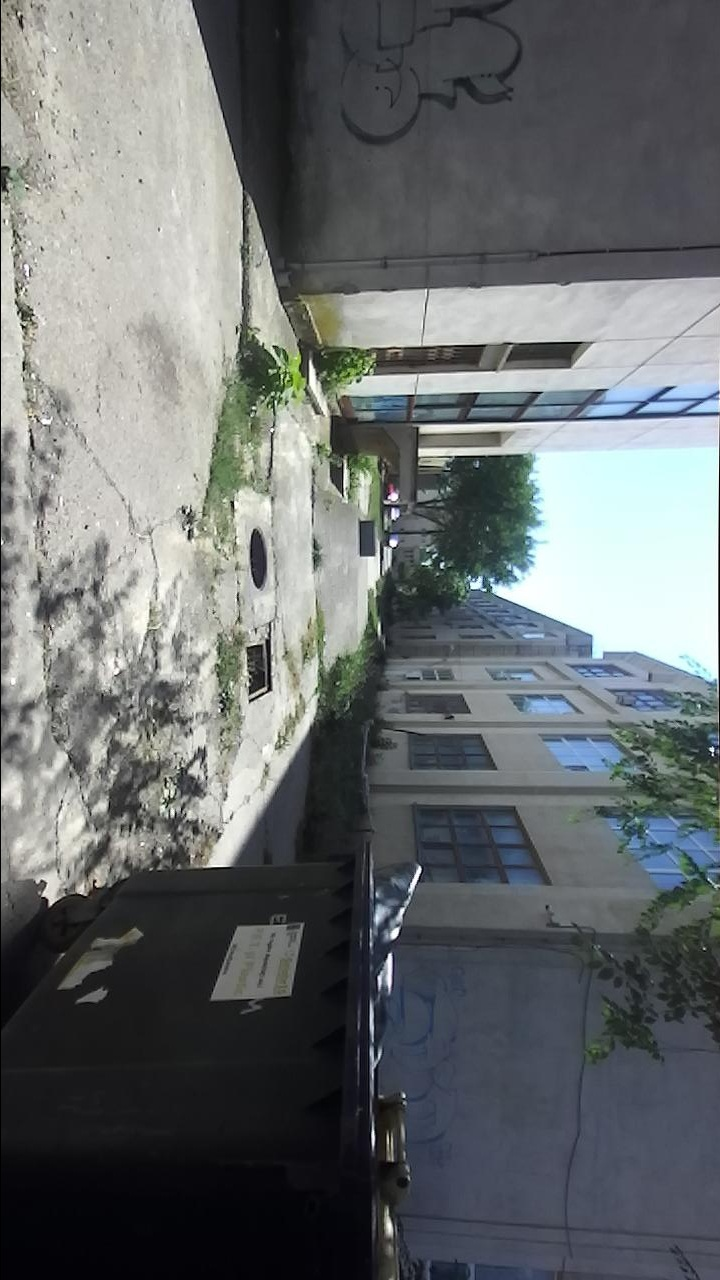drain: (239, 637, 274, 712), (246, 523, 272, 596)
